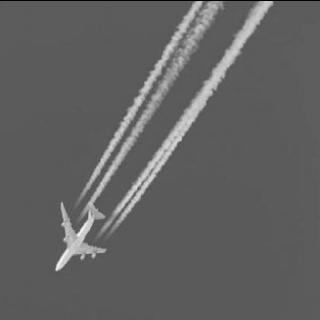Contrails: (74, 1, 272, 234)
